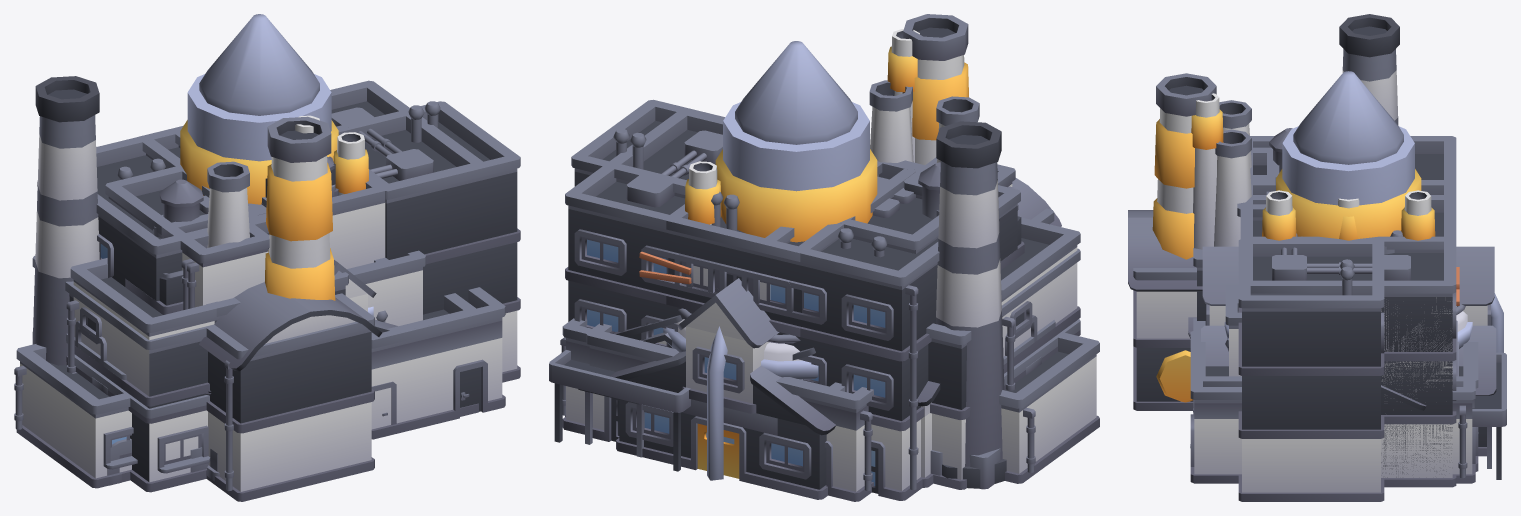
File: industrial.glb
3 renders of one model, left to right at view 1: azimuth 30°, elevation 25°; view 2: azimuth 150°, elevation 25°; view 3: azimuth 270°, elevation 25°, orthographic. The views are drawn at different scales.
Parts seen in each view (by area): view 1: building-f, building-l, building-o, building-r, building-a, building-c, building-n, building-q, water-tower, chimney-large, building-h, building-b (+4 smaller); view 2: building-a, building-f, building-m, building-q, building-l, chimney-large, building-d, water-tower, building-c, building-r, detail-tank-large, building-g (+5 smaller); view 3: building-r, building-a, building-n, building-m, building-c, chimney-large, building-l, water-tower, building-b, building-e, building-f, building-q (+4 smaller).
Boxes of the visible parts, box(x1,y1,x2,y2) form: building-f: box(32, 76, 348, 485); building-l: box(14, 116, 425, 488); building-o: box(205, 293, 374, 501); building-r: box(66, 101, 520, 390); building-a: box(37, 80, 486, 301); building-c: box(207, 287, 505, 481); building-n: box(161, 115, 381, 472); building-q: box(32, 256, 479, 460); water-tower: box(199, 14, 319, 115); chimney-large: box(180, 74, 338, 204); building-h: box(72, 354, 211, 492); building-b: box(153, 89, 470, 269); building-a: box(565, 109, 1020, 500); building-f: box(935, 121, 1080, 488); building-m: box(610, 161, 836, 499); building-q: box(578, 248, 1080, 501); building-l: box(903, 14, 1099, 483); chimney-large: box(715, 102, 877, 242); building-d: box(665, 163, 915, 435); water-tower: box(735, 41, 857, 144); building-c: box(549, 318, 845, 471); building-r: box(571, 99, 1055, 373); detail-tank-large: box(663, 308, 818, 480); building-g: box(613, 160, 938, 360); building-r: box(1238, 239, 1458, 501); building-a: box(1240, 128, 1456, 487); building-n: box(1128, 93, 1279, 401); building-m: box(1201, 190, 1496, 456); building-c: box(1156, 246, 1506, 483); chimney-large: box(1276, 126, 1421, 238); building-l: box(1152, 73, 1241, 376); water-tower: box(1293, 71, 1403, 164); building-b: box(1241, 195, 1459, 486); building-e: box(1193, 100, 1251, 325); building-f: box(1193, 14, 1399, 267); building-q: box(1193, 318, 1491, 471).
Bounding box in the file's own units: 2.71 × 2.14 × 2.18.
1 material, 1 textured.
